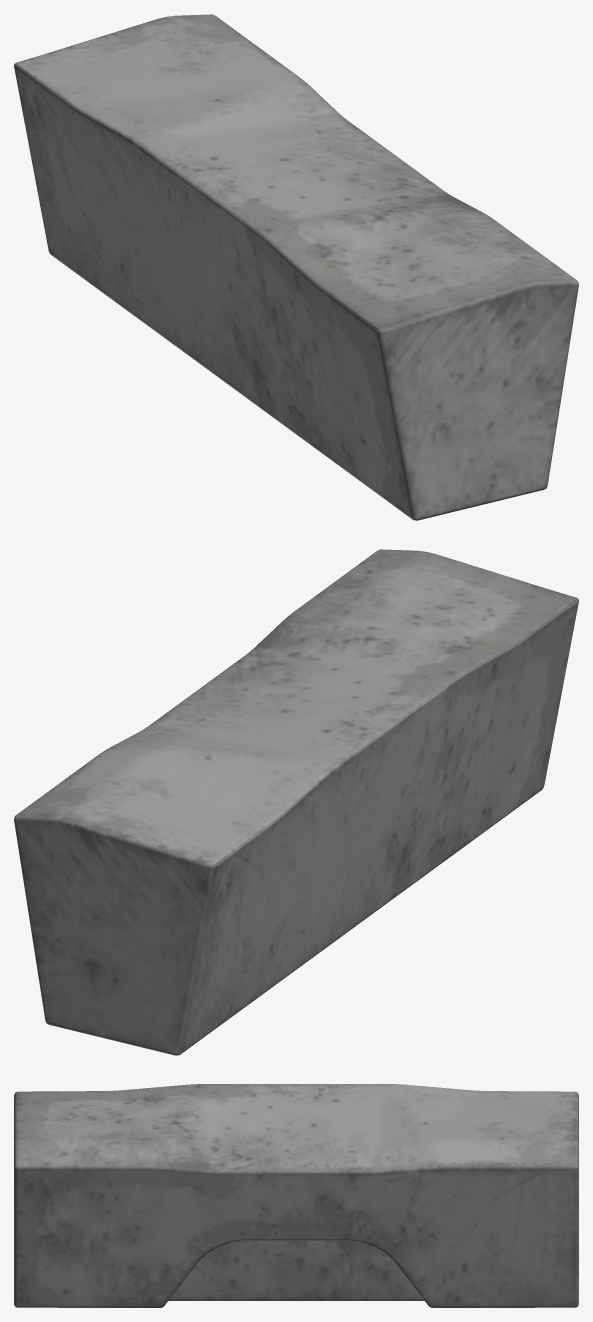
Rendered from concrete_scifi_bench.glb.
The picture shows the model from 3 angles, top to bottom: view 1: azimuth 30°, elevation 25°; view 2: azimuth 150°, elevation 25°; view 3: azimuth 270°, elevation 25°; orthographic projection. The views are drawn at different scales.
Visible parts, largest first — view 1: Bench; view 2: Bench; view 3: Bench.
Boxes of the visible parts, x1,y1,x2,y2 form: Bench: (14, 14, 578, 520); Bench: (14, 549, 578, 1055); Bench: (14, 1084, 578, 1307).
Bounding box in the file's own units: 0.5227 × 0.5233 × 1.65.
Materials: 1 (1 with a texture image).
